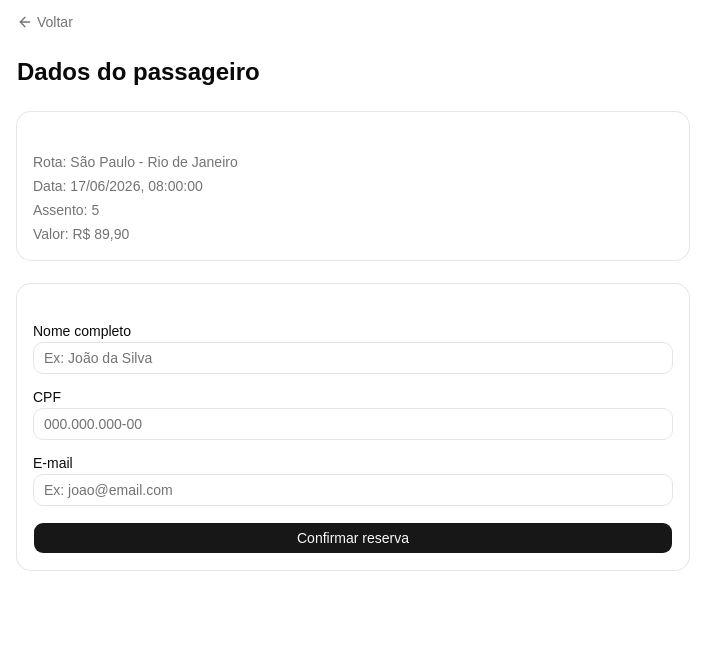
Scenario: PassengerFormPage › deve exibir erros ao submeter formulário vazio
Click the button "Confirmar reserva". click: {"x": 353, "y": 538}
box: [33,522,673,554]
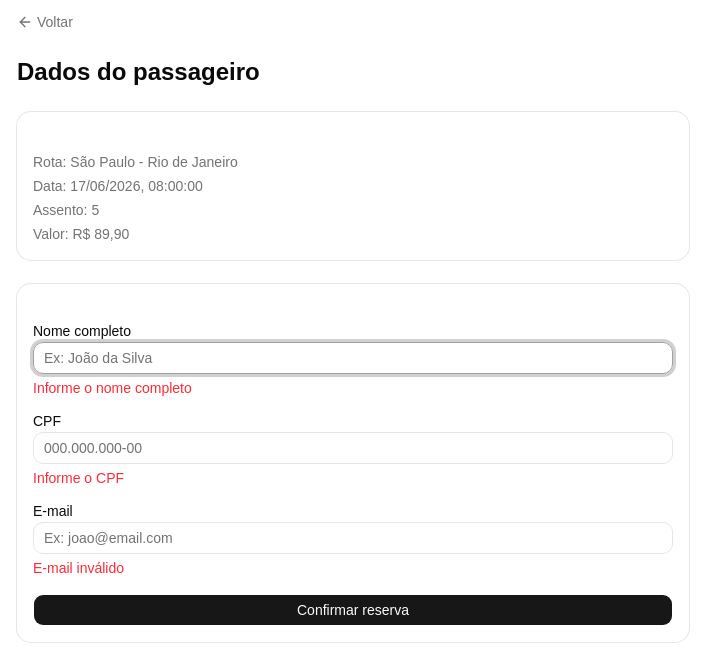
Expected: the text "Informe o nome completo" is shown, [33,380,192,396]
Expected: the text "Informe o CPF" is shown, [33,470,124,486]
Expected: the text "E-mail inválido" is shown, [33,560,124,576]
